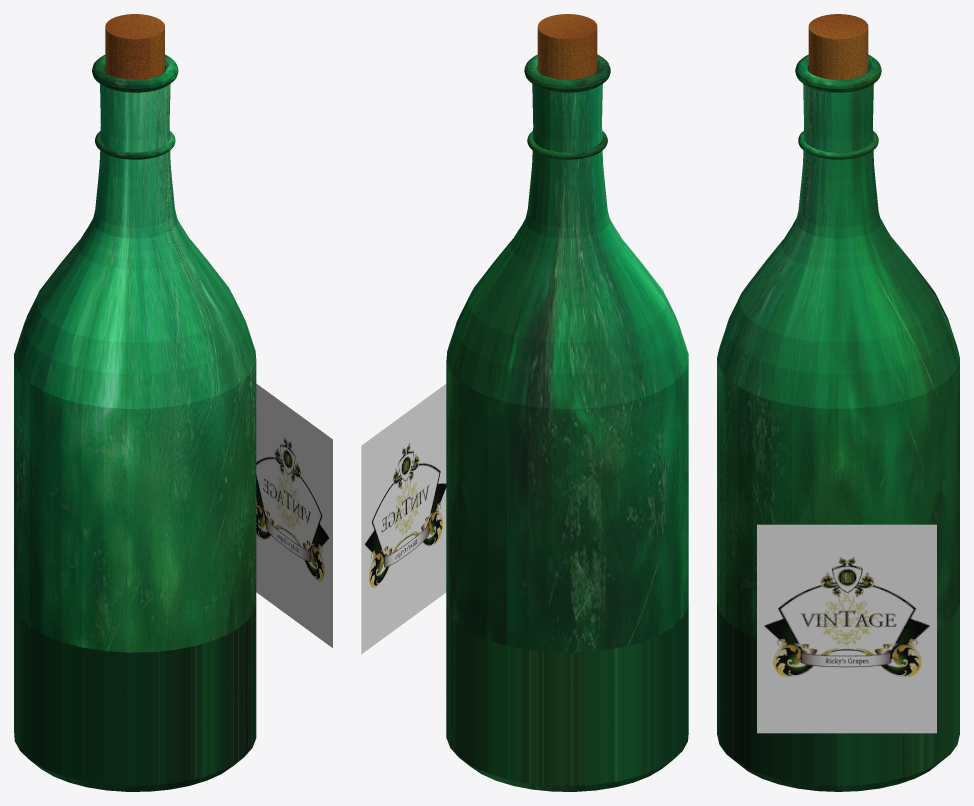
Rendered from WineBottle.glb.
3 renders of one model, left to right at view 1: azimuth 30°, elevation 25°; view 2: azimuth 150°, elevation 25°; view 3: azimuth 270°, elevation 25°, orthographic.
Parts seen in each view (by area): view 1: WineBottle, Label.001, BottlePlug, Torus, Torus.001; view 2: WineBottle, Label.001, BottlePlug, Torus, Torus.001; view 3: WineBottle, Label.001, BottlePlug, Torus, Torus.001.
Part boxes in pixels (x1,y1,x2,y2): WineBottle: [14, 65, 256, 791]; Label.001: [256, 383, 332, 647]; BottlePlug: [105, 14, 164, 79]; Torus: [92, 54, 178, 92]; Torus.001: [95, 131, 175, 159]; WineBottle: [446, 65, 688, 791]; Label.001: [361, 384, 446, 654]; BottlePlug: [537, 14, 597, 79]; Torus: [524, 54, 610, 92]; Torus.001: [527, 131, 607, 159]; WineBottle: [717, 65, 959, 791]; Label.001: [757, 524, 936, 733]; BottlePlug: [808, 14, 868, 79]; Torus: [795, 54, 881, 92]; Torus.001: [798, 131, 878, 159].
Bounding box in the file's own units: 2.49 × 6.54 × 2.
Materials: 5 (5 with a texture image).
